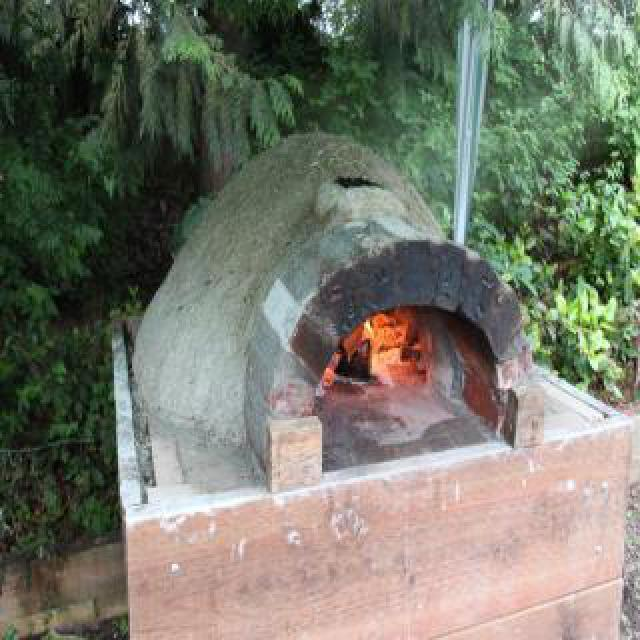Fire: (350, 294, 394, 396)
